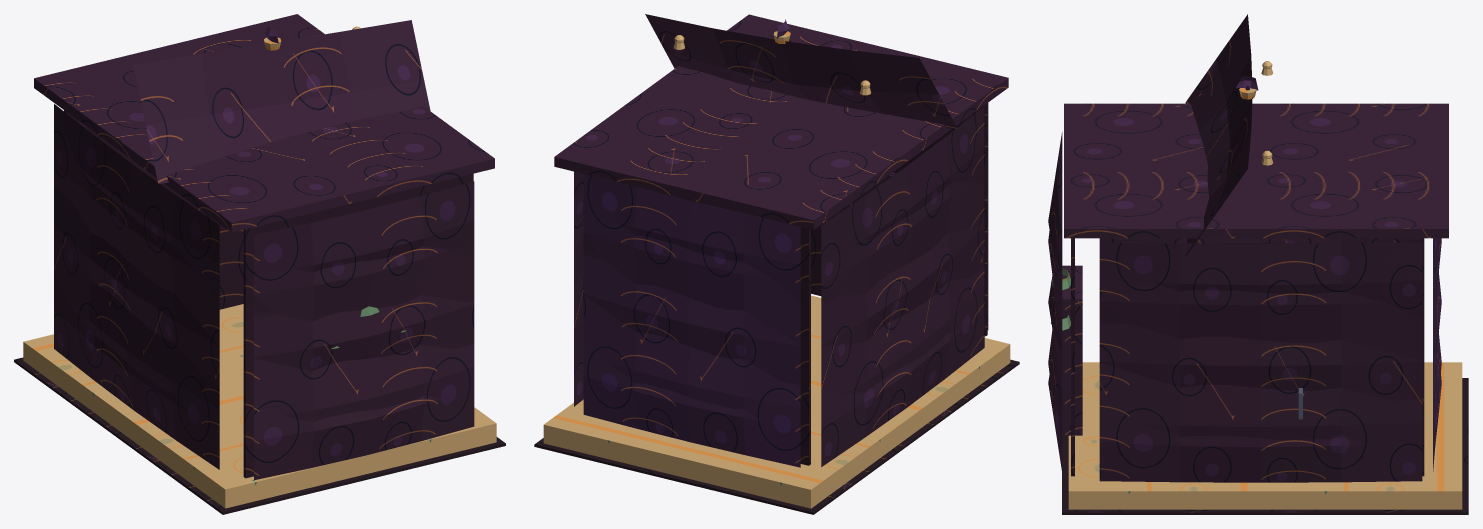
Rendered from env_hut_residential_c.glb.
3 renders of one model, left to right at view 1: azimuth 30°, elevation 25°; view 2: azimuth 150°, elevation 25°; view 3: azimuth 270°, elevation 25°, orthographic. The views are drawn at different scales.
Visible parts, largest first — view 1: lod0__hut_c_shell, lod1__hut_c_shell, lod0__hut_c_clay; view 2: lod0__hut_c_shell, lod1__hut_c_shell, lod0__hut_c_clay; view 3: lod0__hut_c_shell, lod1__hut_c_shell, lod0__hut_c_clay.
Boxes of the visible parts, x1,y1,x2,y2 form: lod0__hut_c_shell: (14, 14, 505, 514); lod1__hut_c_shell: (54, 105, 474, 479); lod0__hut_c_clay: (23, 26, 496, 508); lod0__hut_c_shell: (534, 14, 1019, 514); lod1__hut_c_shell: (574, 107, 988, 466); lod0__hut_c_clay: (543, 31, 1010, 508); lod0__hut_c_shell: (1048, 14, 1468, 514); lod1__hut_c_shell: (1048, 133, 1441, 482); lod0__hut_c_clay: (1051, 61, 1462, 509).
Bounding box in the file's own units: 3.63 × 4.65 × 4.76.
3 materials, 2 textured.
